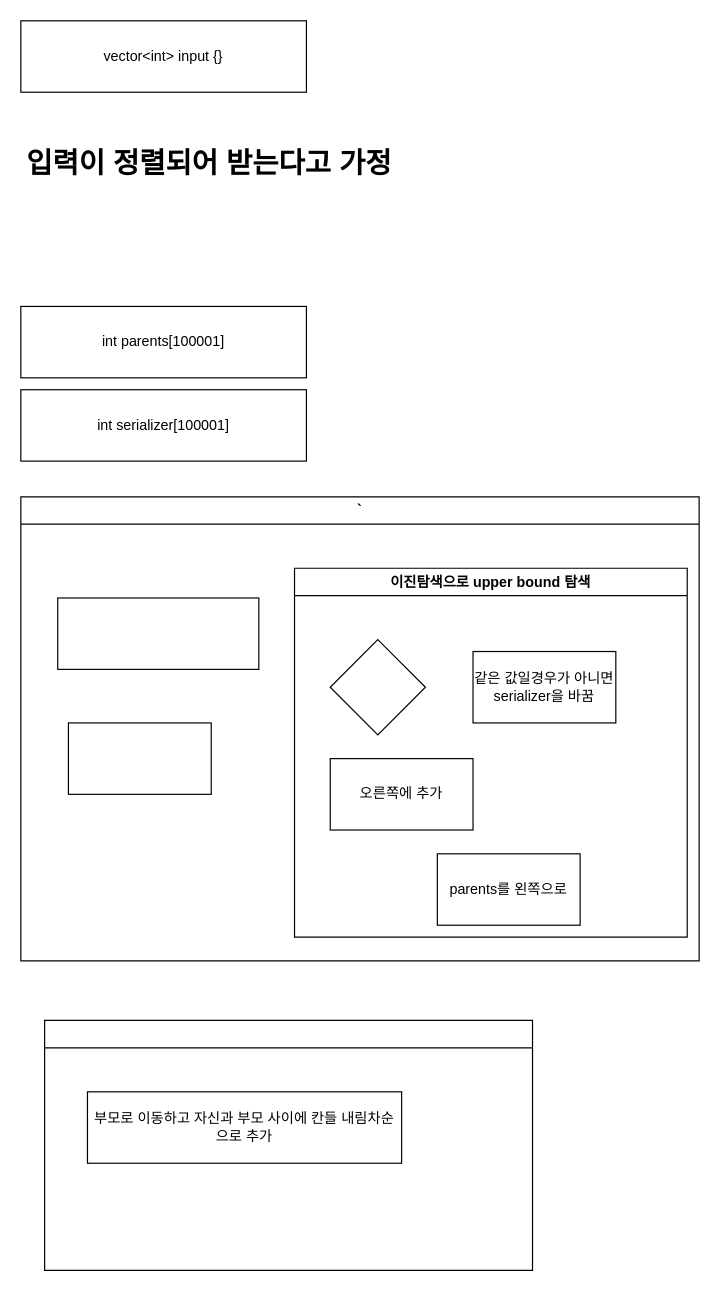
Some shapes in this 720 by 1291 pixel diagram are drawn without their labels. Each missing label, with the box of its shape:
serializer 크기가 0인가?: (57, 597, 259, 669)
그냥 추가, parents는 -1로: (67, 722, 211, 794)
맨 마지막 아이에 대해서 반복: (43, 1019, 533, 1270)
맨 오른쪽인가: (329, 638, 425, 735)
